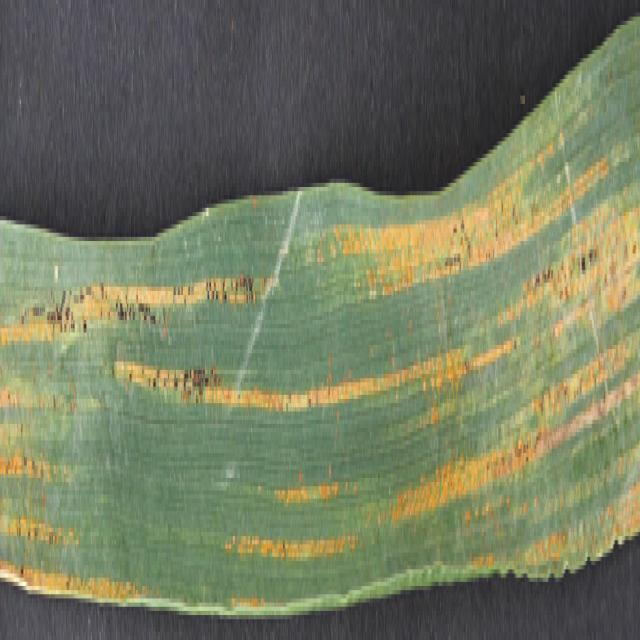leaf rust: (0, 120, 638, 640)
